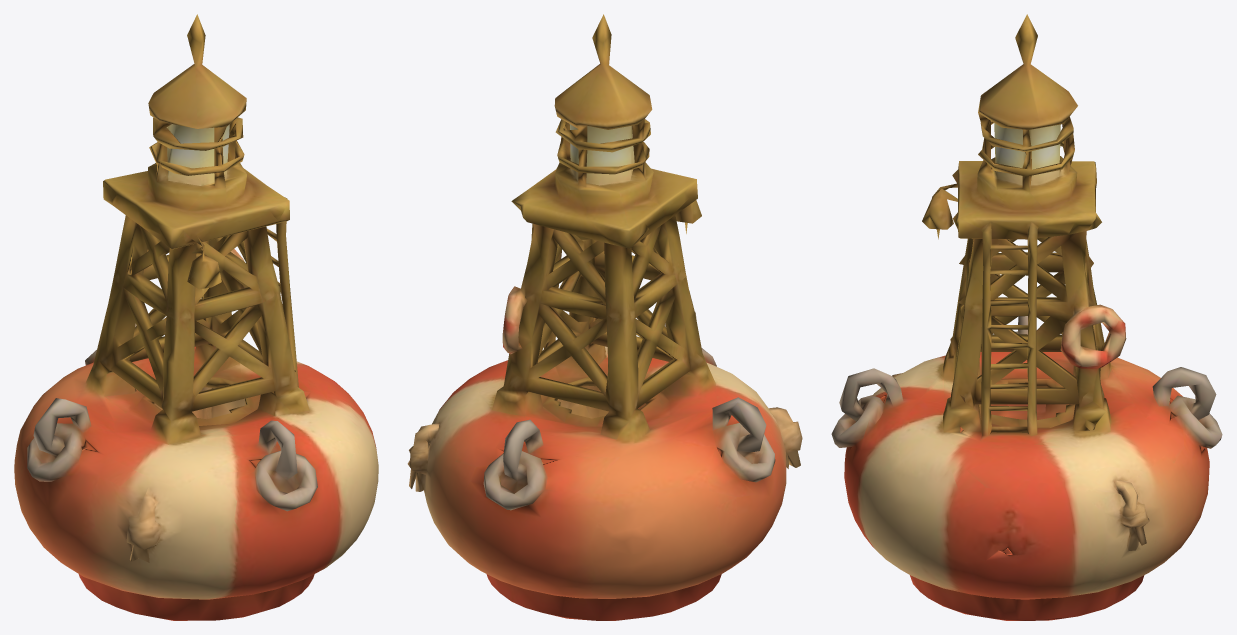
The model's file is prop_buoy.glb.
3 views of the same model, side by side, from view 1: azimuth 30°, elevation 25°; view 2: azimuth 150°, elevation 25°; view 3: azimuth 270°, elevation 25° (orthographic).
Visible parts, largest first — view 1: tripo_node_5e7af318-d05c-44ea-bddc-167d5014f2bf; view 2: tripo_node_5e7af318-d05c-44ea-bddc-167d5014f2bf; view 3: tripo_node_5e7af318-d05c-44ea-bddc-167d5014f2bf.
Boxes of the visible parts, x1,y1,x2,y2 form: tripo_node_5e7af318-d05c-44ea-bddc-167d5014f2bf: (14,14,378,620); tripo_node_5e7af318-d05c-44ea-bddc-167d5014f2bf: (407,14,802,620); tripo_node_5e7af318-d05c-44ea-bddc-167d5014f2bf: (831,14,1222,620).
Bounding box in the file's own units: 0.6055 × 1 × 0.6333.
Materials: 1 (1 with a texture image).
